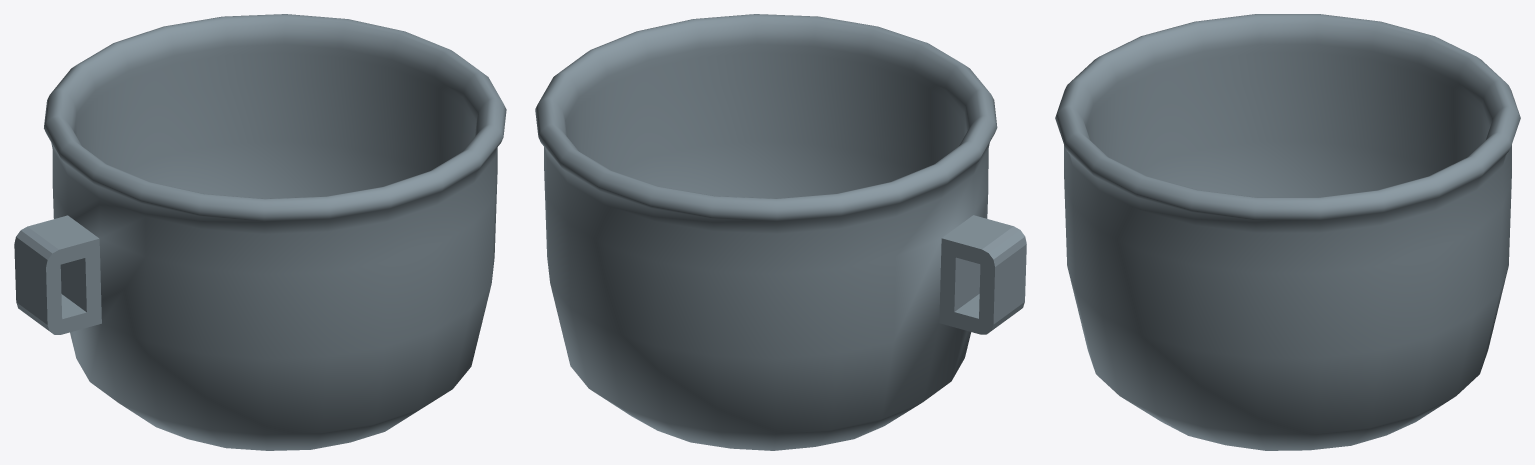
Rendered from MixerBowl.fbx.
The picture shows the model from 3 angles, left to right: view 1: azimuth 30°, elevation 25°; view 2: azimuth 150°, elevation 25°; view 3: azimuth 270°, elevation 25°; orthographic projection.
Visible parts, largest first — view 1: MixerBowl; view 2: MixerBowl; view 3: MixerBowl.
Part boxes in pixels (bbox=[...]): MixerBowl: bbox=[14, 14, 506, 450]; MixerBowl: bbox=[535, 14, 1026, 450]; MixerBowl: bbox=[1055, 14, 1520, 450].
Size of the model in its own units: 13.26 by 12.02 by 8.15.
1 material, 1 textured.
